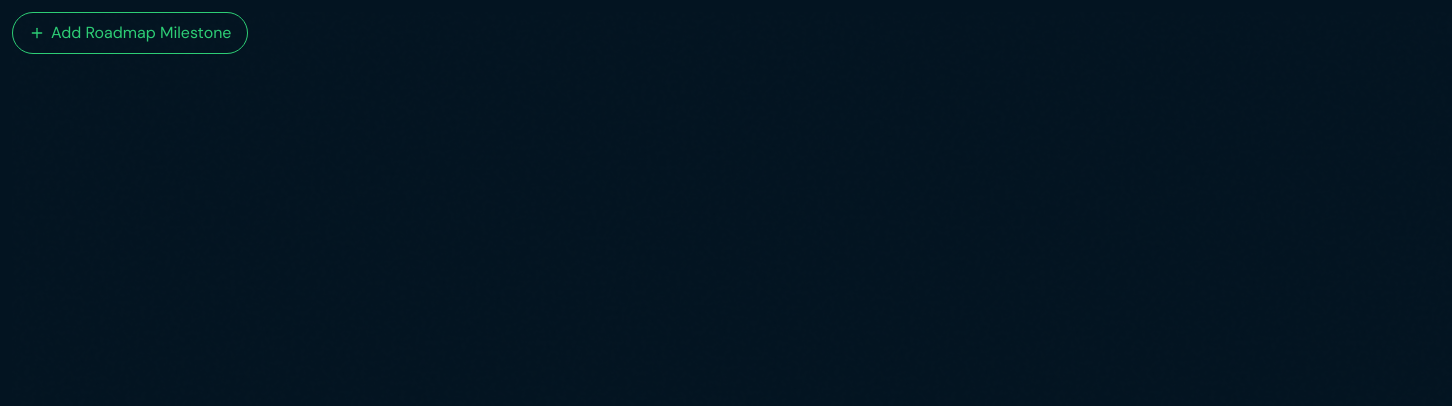
Test: AddRoadmapMilestoneForm › shows an inline error instead of hanging when the RPC call throws rather than resolving with { error }
Step 1. Click the button "Add Roadmap Milestone" → (130, 33), box [12, 12, 248, 54]
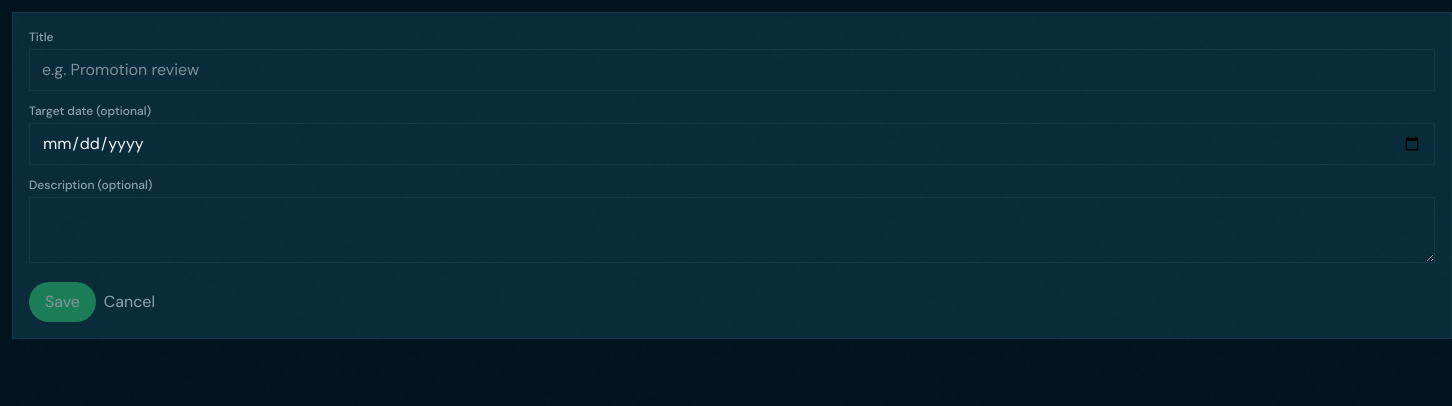
Step 2. Type "Should also fail" into the field labelled "Title" → (732, 70), box [29, 49, 1435, 91]
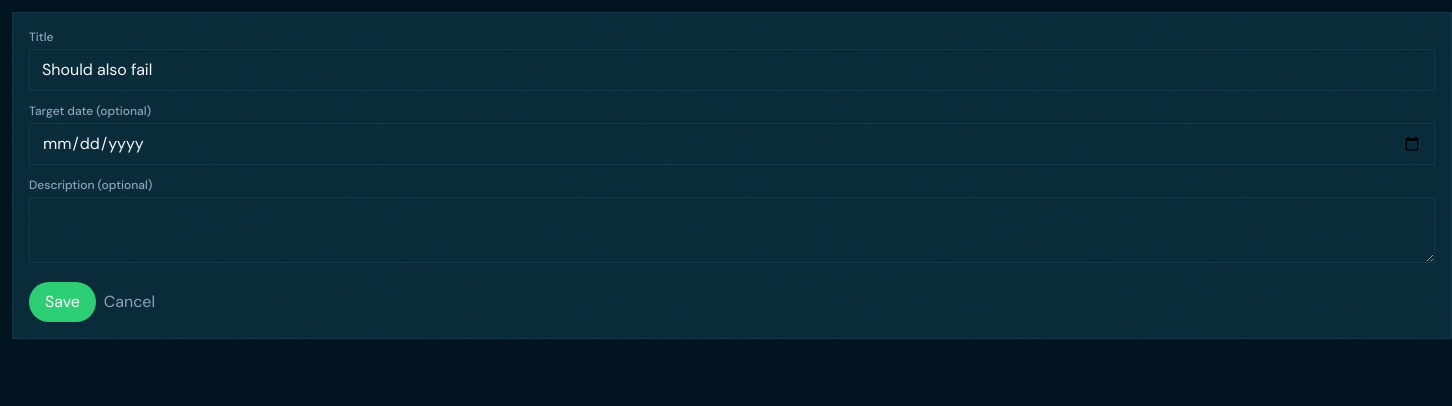
Step 3. Click the button "Save" → (62, 302), box [29, 282, 96, 322]
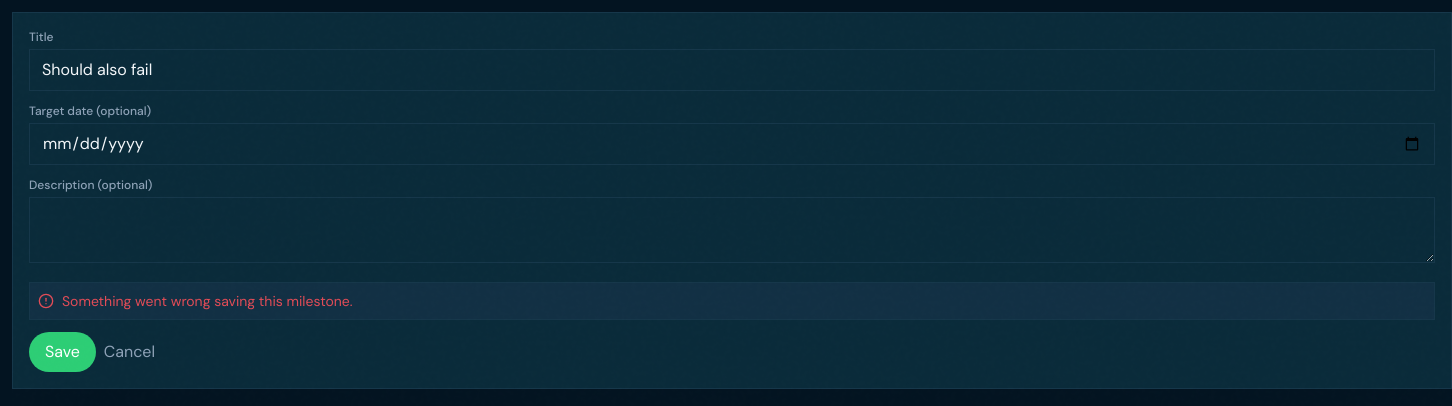
Result: the button "Save" is enabled at [29, 332, 96, 372]
Result: the message "Something went wrong saving this milestone." is shown at [29, 282, 1435, 320]
